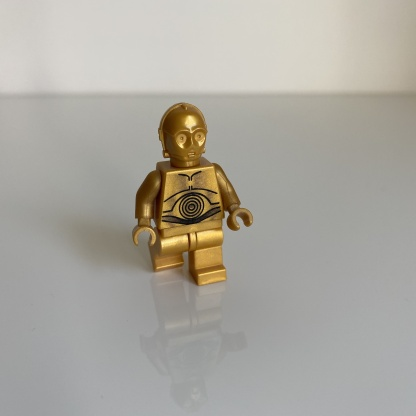c3po: (132, 102, 255, 286)
